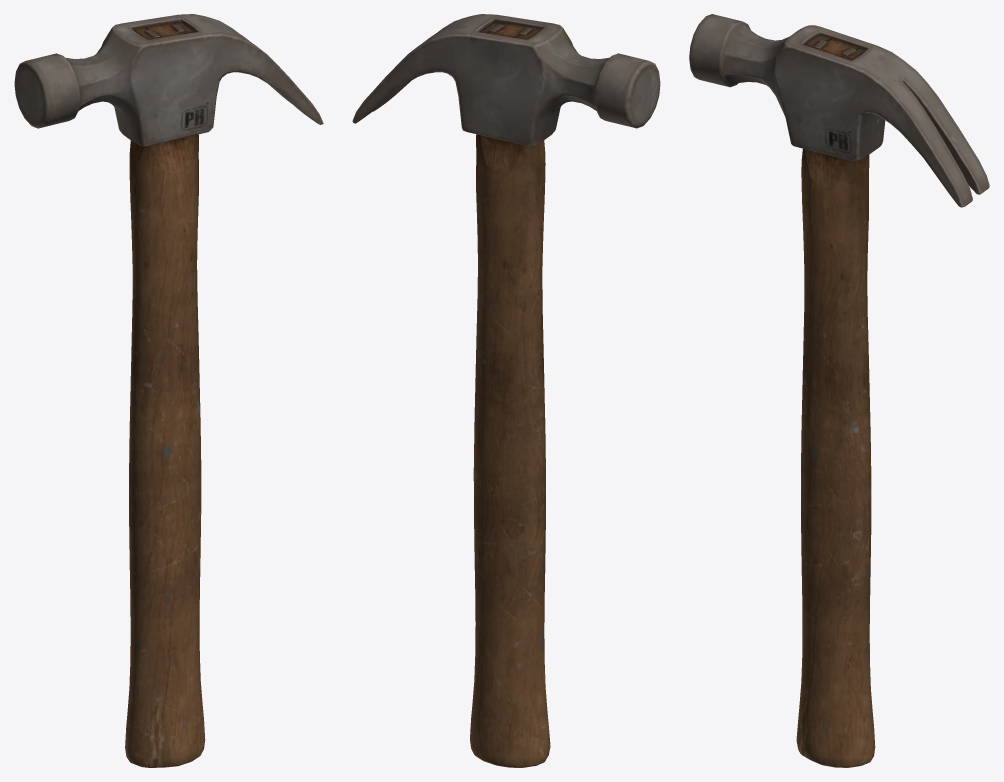
File: wooden_hammer_01.glb
3 renders of one model, left to right at view 1: azimuth 30°, elevation 25°; view 2: azimuth 150°, elevation 25°; view 3: azimuth 330°, elevation 25°, orthographic. The views are drawn at different scales.
Visible parts, largest first — view 1: wooden_hammer_01; view 2: wooden_hammer_01; view 3: wooden_hammer_01.
Part boxes in pixels (x1,y1,x2,y2): wooden_hammer_01: (14,14,323,767); wooden_hammer_01: (352,14,660,767); wooden_hammer_01: (689,14,989,767).
Size of the model in its own units: 0.1118 by 0.2792 by 0.0234.
Materials: 1 (1 with a texture image).
